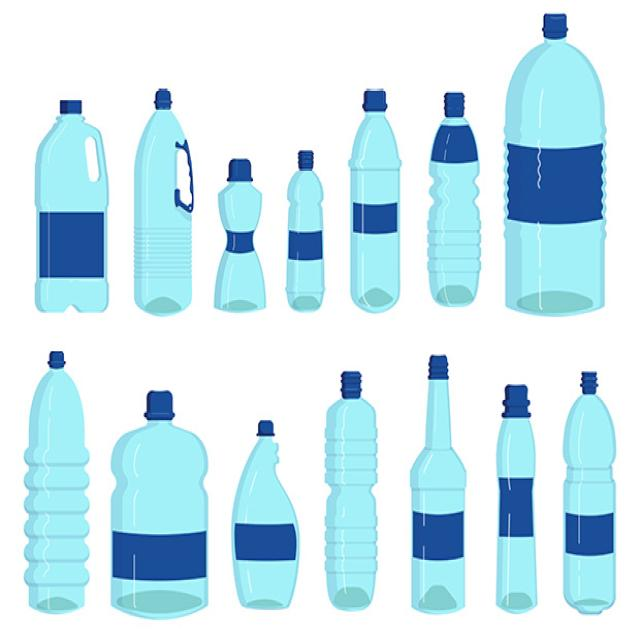bottom: (502, 277, 614, 322), (107, 582, 214, 626), (317, 564, 387, 619), (426, 259, 486, 315), (18, 575, 96, 617), (30, 288, 120, 323), (407, 579, 473, 624), (342, 281, 402, 320), (126, 280, 189, 317), (562, 588, 624, 619), (210, 291, 270, 322), (234, 592, 295, 616), (496, 586, 542, 616), (280, 288, 330, 310)
cap: (493, 376, 539, 428), (346, 81, 395, 116), (142, 384, 176, 428), (538, 8, 574, 48), (50, 92, 90, 124), (224, 154, 255, 193), (438, 86, 470, 123), (332, 365, 364, 398), (575, 365, 606, 396), (422, 355, 455, 383), (148, 87, 177, 115), (251, 417, 278, 441), (293, 148, 319, 172), (45, 347, 67, 375)
